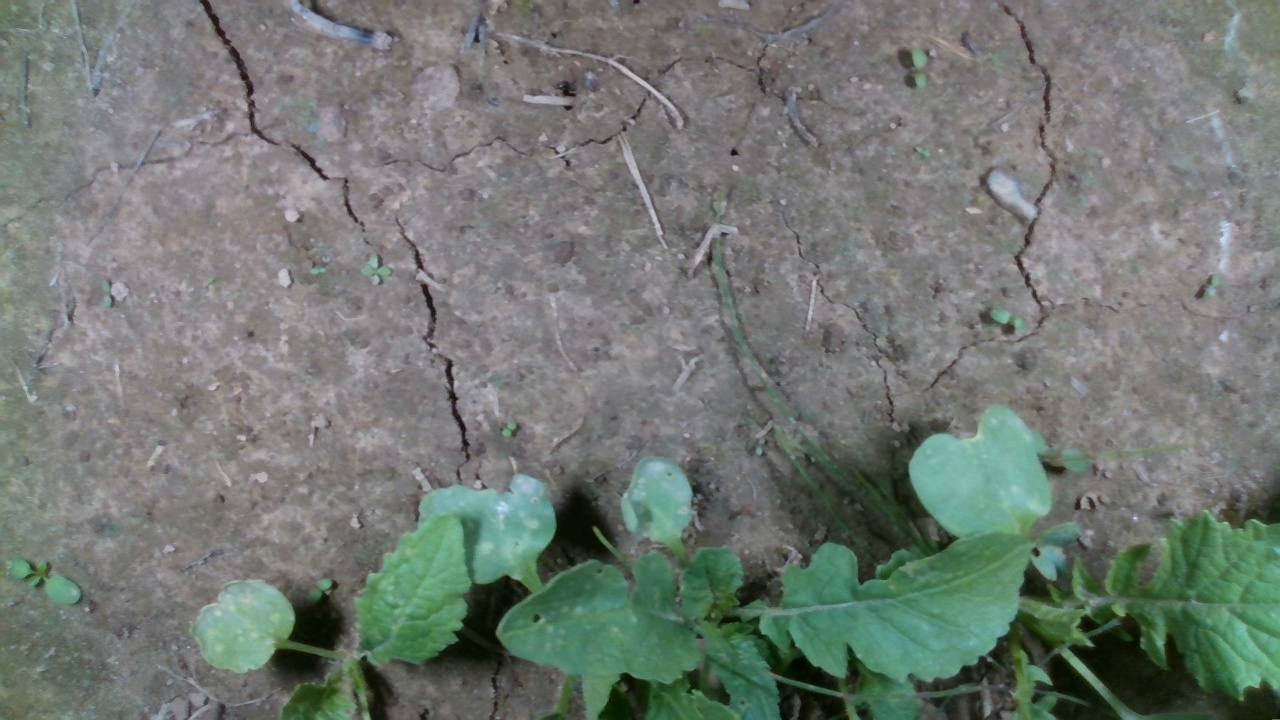weed: (6, 558, 81, 606), (358, 249, 392, 287), (988, 306, 1028, 331), (912, 46, 932, 90), (308, 576, 334, 603), (1201, 273, 1219, 300), (500, 418, 518, 439)
